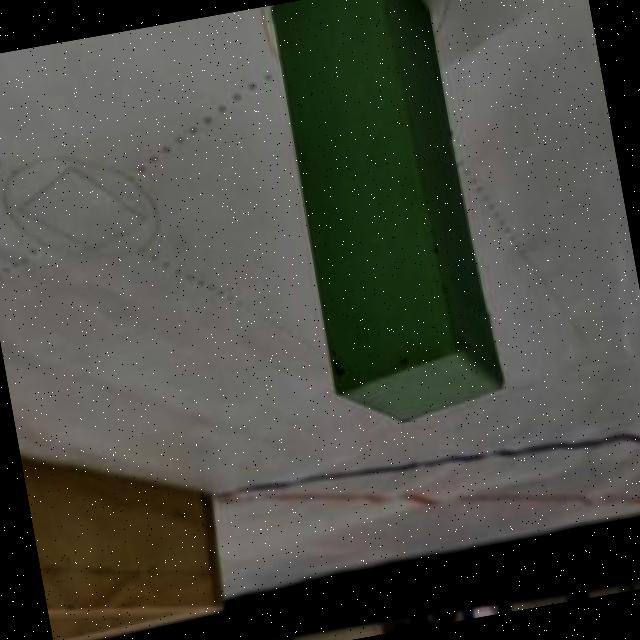greenbox: (264, 0, 513, 439)
